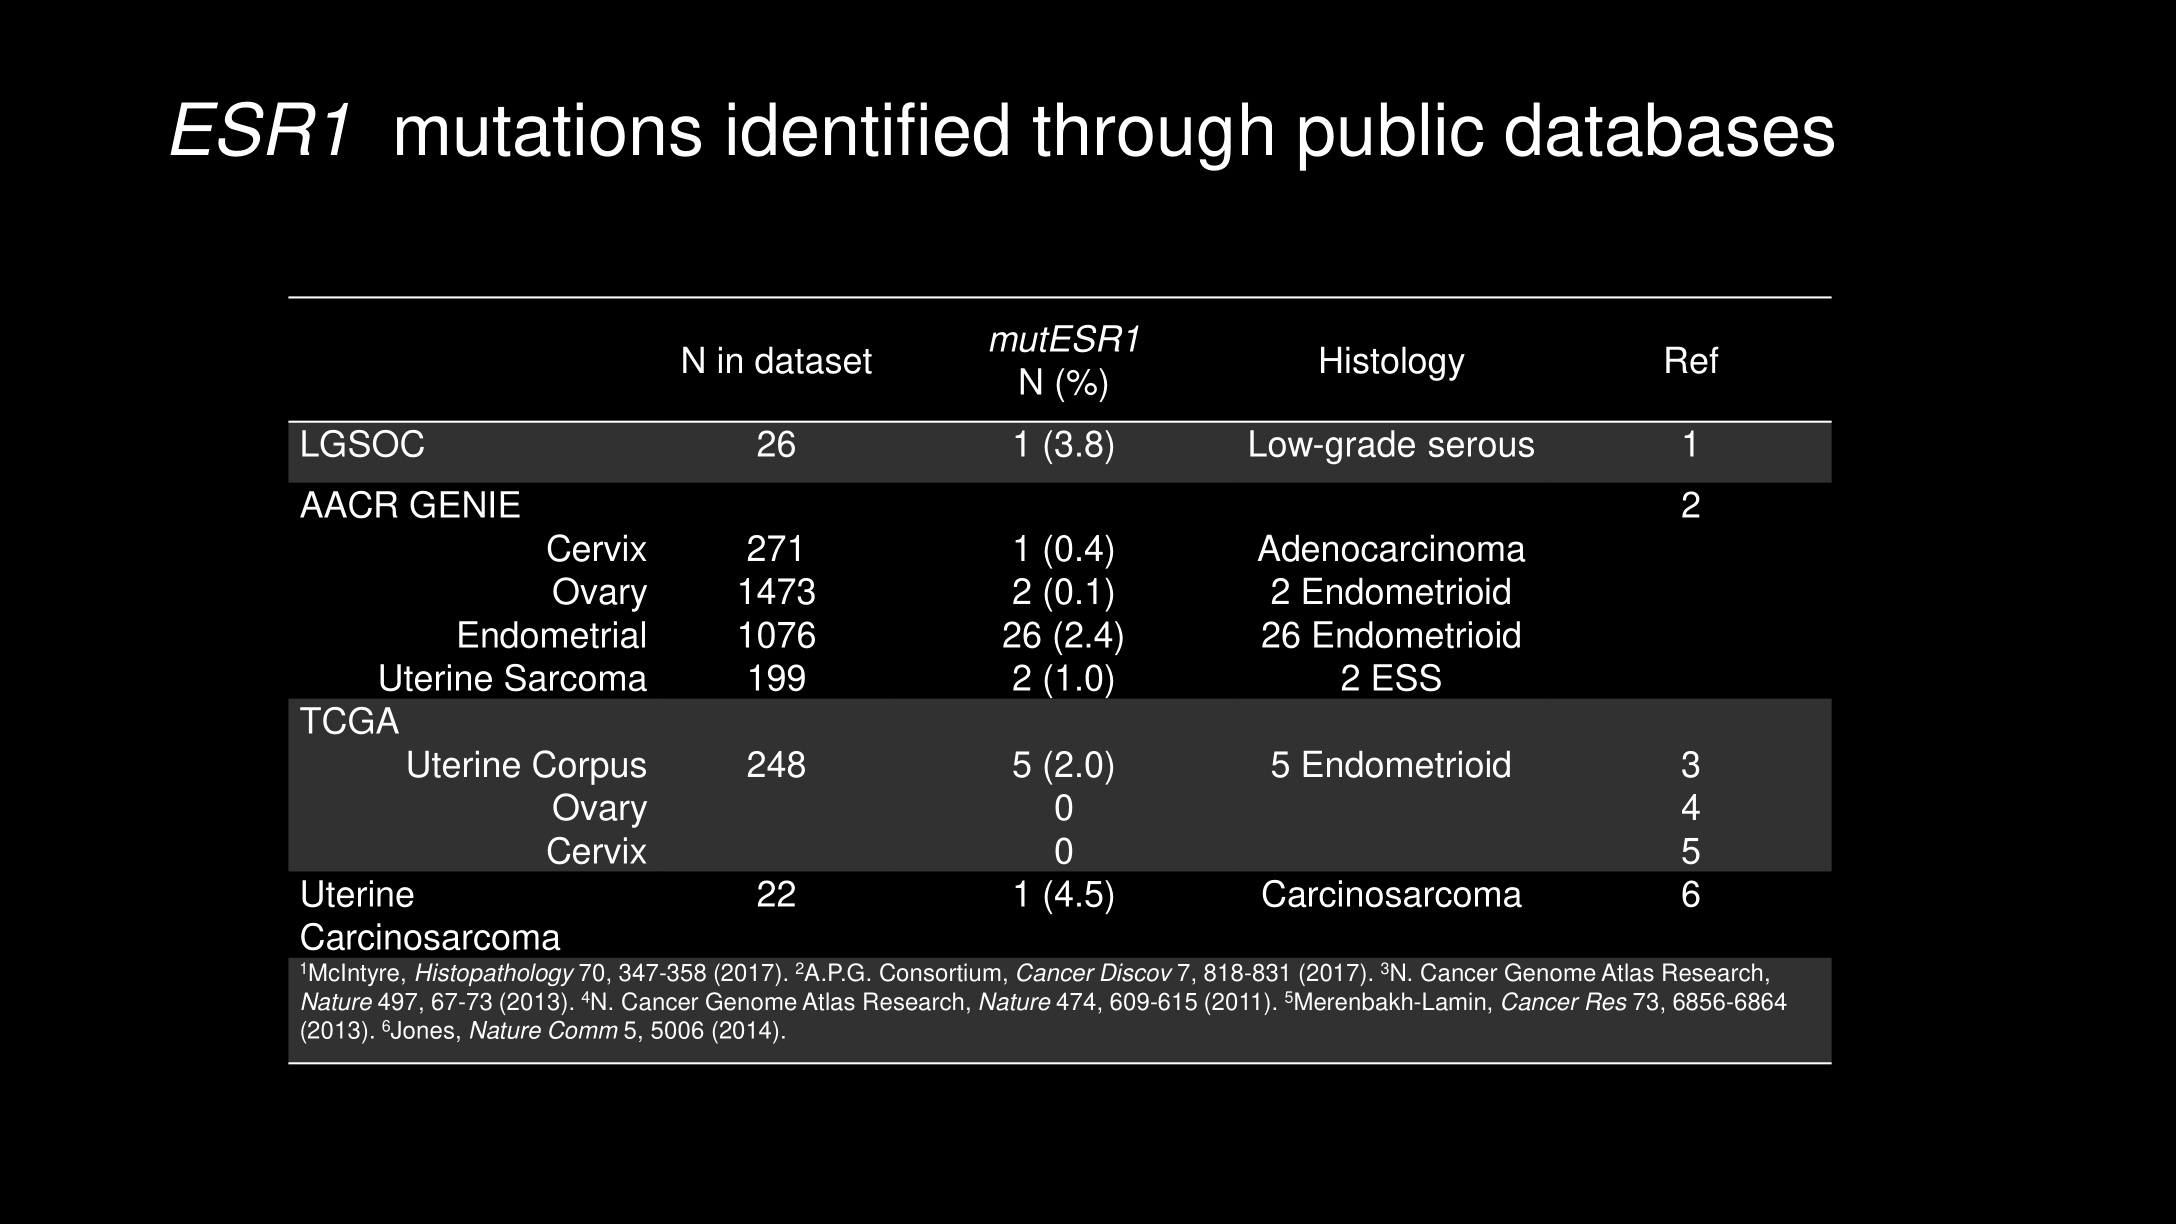partial_lined_merged_cells: (286, 294, 1836, 1067)
